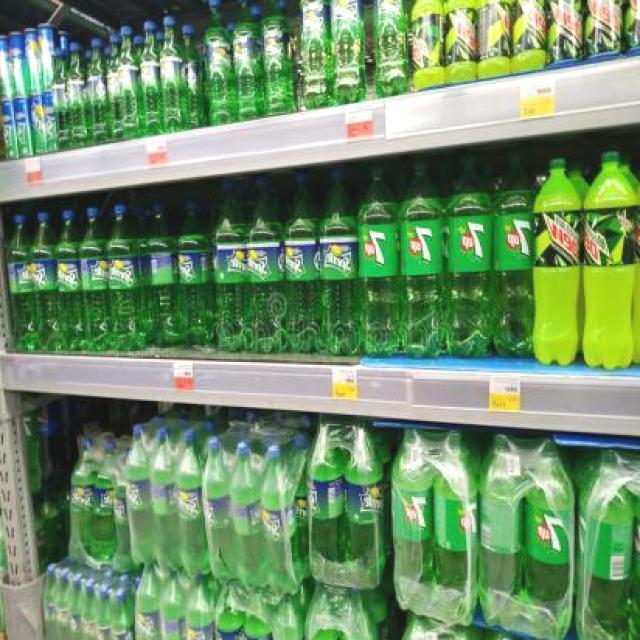Drinks: (582, 152, 638, 370), (532, 156, 584, 366), (578, 452, 634, 640), (445, 148, 493, 360), (524, 440, 576, 632), (398, 153, 446, 360), (478, 437, 525, 628), (493, 146, 534, 360), (390, 426, 435, 616), (435, 430, 478, 626), (356, 160, 398, 359), (344, 420, 389, 590), (318, 168, 357, 356), (210, 177, 248, 353), (282, 172, 318, 354), (306, 418, 345, 584), (248, 176, 283, 354), (108, 204, 146, 352), (263, 446, 299, 598), (176, 198, 211, 350), (230, 442, 262, 593), (146, 201, 177, 347), (201, 439, 231, 588), (260, 0, 298, 115), (175, 429, 202, 578), (149, 430, 176, 572), (81, 208, 107, 354), (201, 0, 231, 124), (70, 437, 99, 565), (331, 0, 366, 106), (55, 208, 80, 354), (30, 211, 55, 354), (124, 424, 149, 567), (374, 0, 410, 98), (298, 0, 330, 110), (6, 212, 30, 352), (232, 0, 260, 120), (410, 0, 443, 89), (442, 0, 476, 84), (509, 0, 544, 76), (476, 0, 510, 78), (582, 0, 624, 62), (544, 0, 582, 67)
